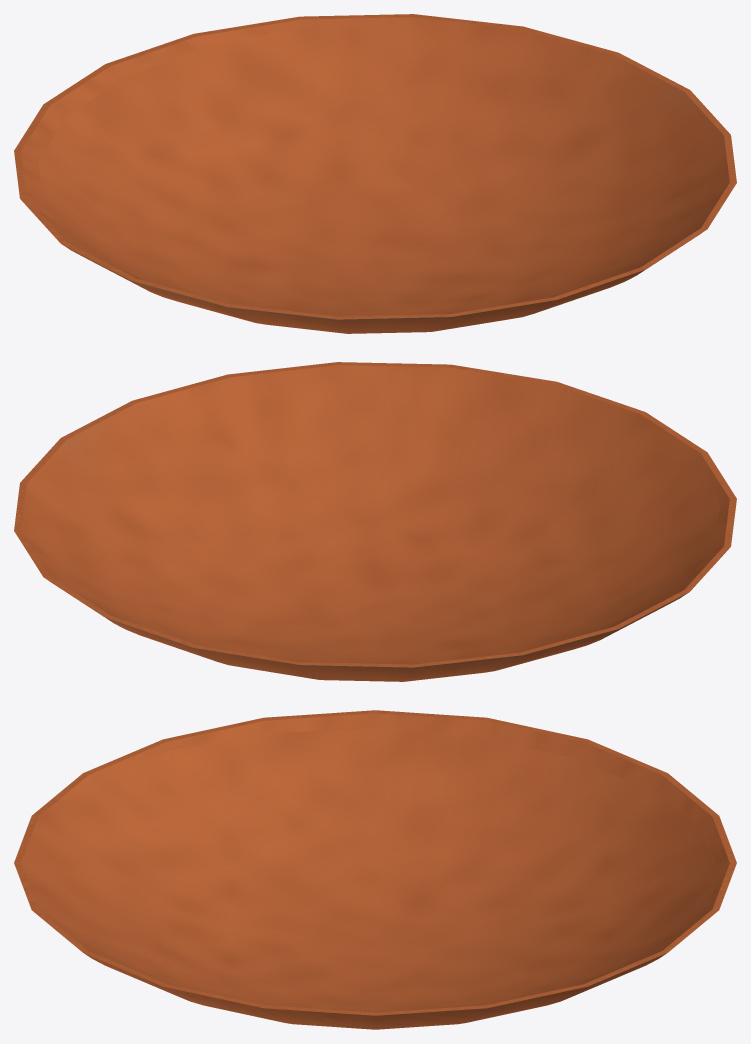
Rendered from bor2.fbx.
The picture shows the model from 3 angles, top to bottom: view 1: azimuth 30°, elevation 25°; view 2: azimuth 150°, elevation 25°; view 3: azimuth 270°, elevation 25°; orthographic projection.
Parts seen in each view (by area): view 1: BezierCurve.006; view 2: BezierCurve.006; view 3: BezierCurve.006.
Part boxes in pixels (x1=…): BezierCurve.006: x1=14, y1=14, x2=736, y2=333; BezierCurve.006: x1=14, y1=362, x2=736, y2=681; BezierCurve.006: x1=14, y1=710, x2=736, y2=1029.
Bounding box in the file's own units: 516 × 83.07 × 516.
